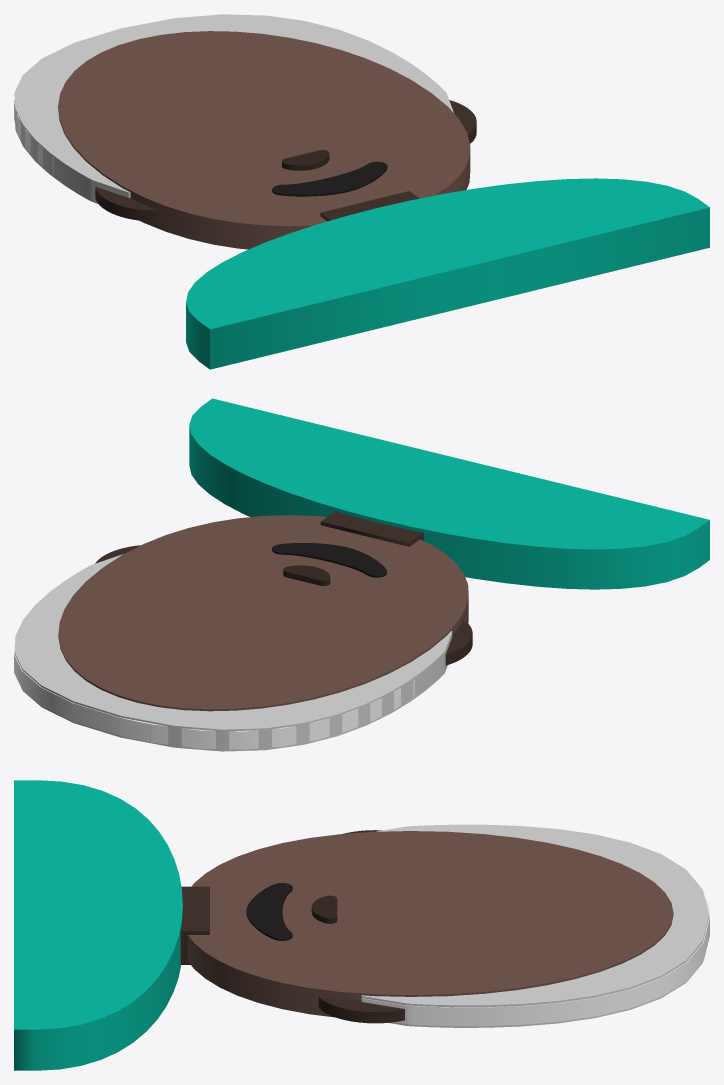
The model's file is emoji_u1f468_1f3ff_200d_1f9b3.glb.
The picture shows the model from 3 angles, top to bottom: view 1: azimuth 30°, elevation 25°; view 2: azimuth 150°, elevation 25°; view 3: azimuth 270°, elevation 25°; orthographic projection. The views are drawn at different scales.
Visible parts, largest first — view 1: emoji_u1f468_1f3ff_200d_1f9b3; view 2: emoji_u1f468_1f3ff_200d_1f9b3; view 3: emoji_u1f468_1f3ff_200d_1f9b3.
Boxes of the visible parts, <box> form: emoji_u1f468_1f3ff_200d_1f9b3: <box>14,14,709,369</box>; emoji_u1f468_1f3ff_200d_1f9b3: <box>14,398,709,751</box>; emoji_u1f468_1f3ff_200d_1f9b3: <box>14,780,709,1070</box>.
Size of the model in its own units: 0.0286 by 0.0022 by 0.0337.
